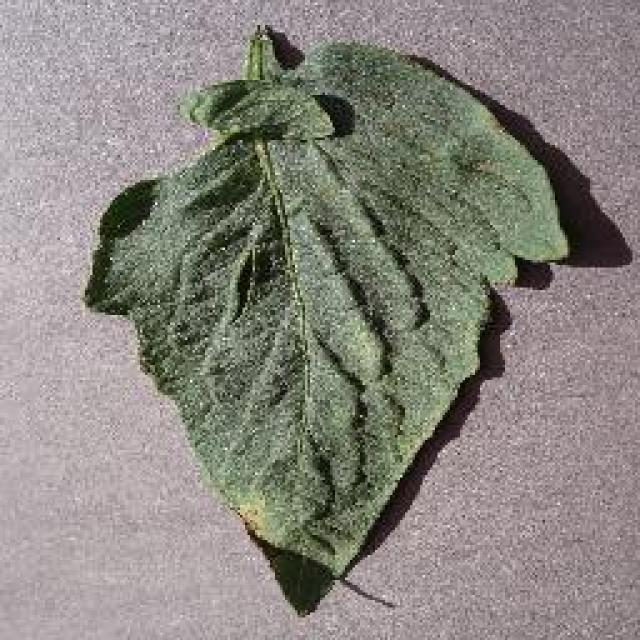Tomato___Target_Spot: (85, 28, 568, 572)
